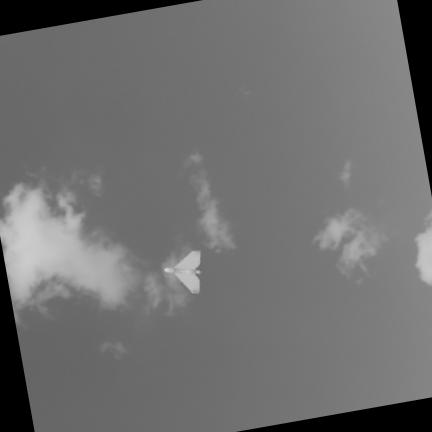Shahed: (165, 250, 200, 291)
